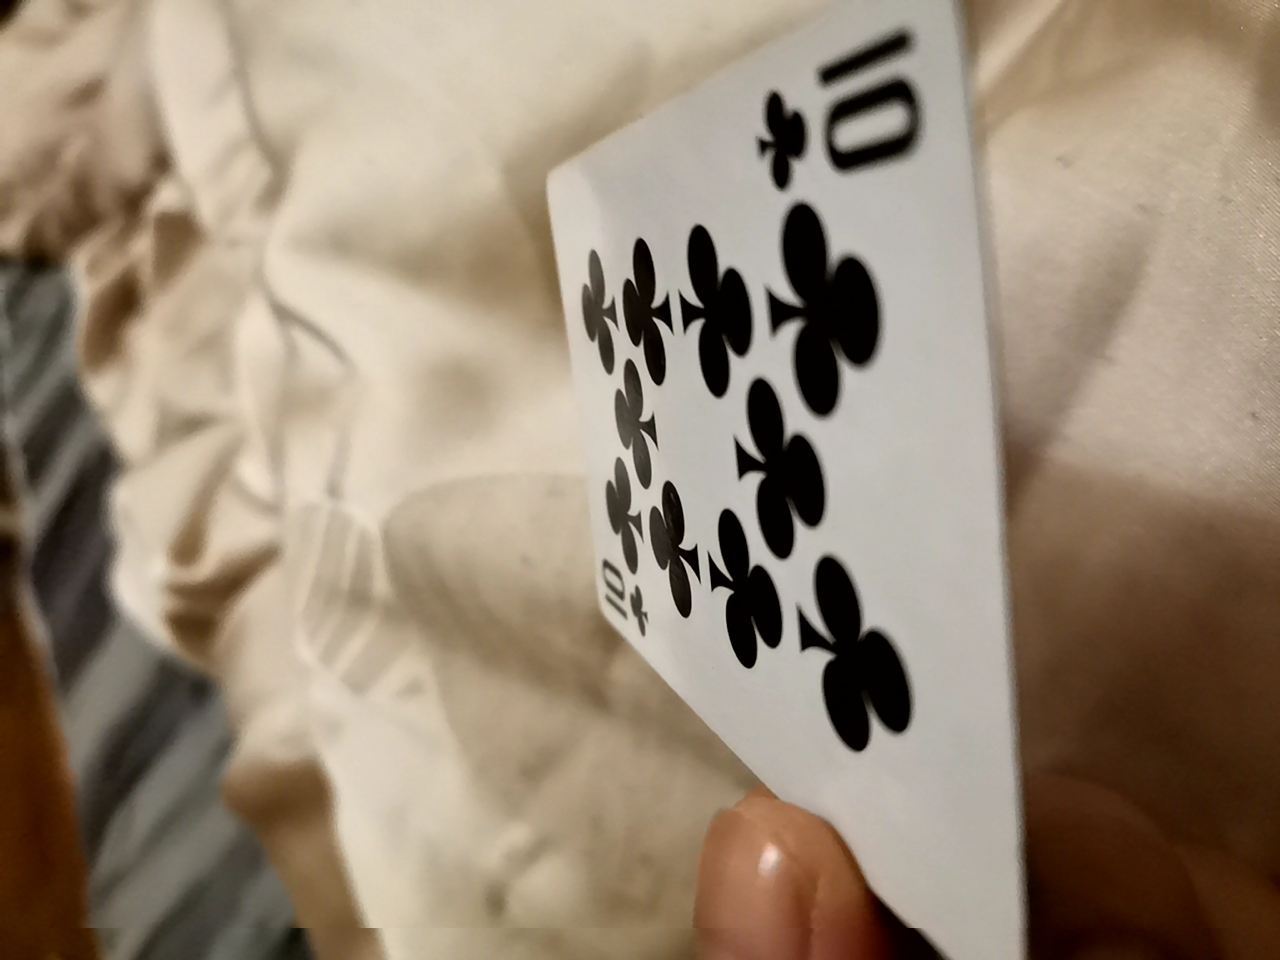mh 10: (513, 14, 1027, 923)
